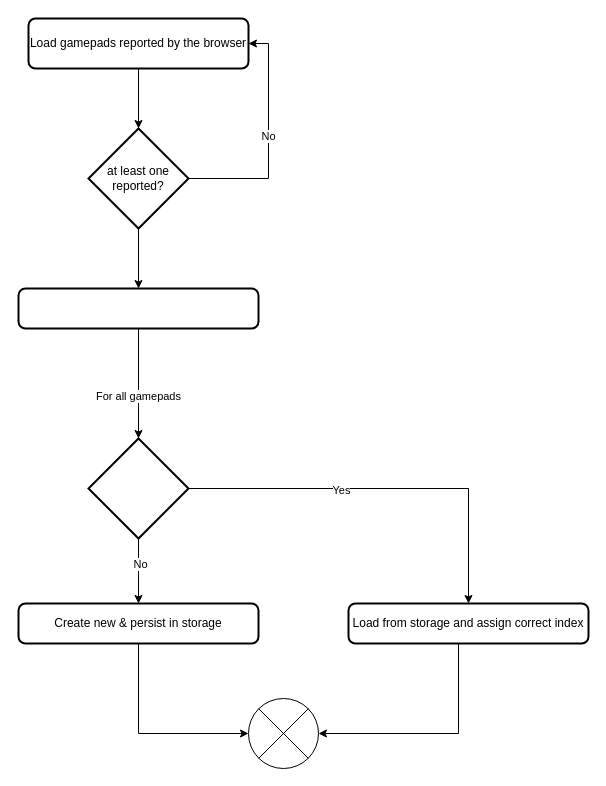
Image size: 606x786. Some labels were removed from this diagram. The centre of each missing label's shape, as x and y in pixels:
"Calculate unique ids" belongs at pixel 138 308.
"ID present in storage" belongs at pixel 138 488.
